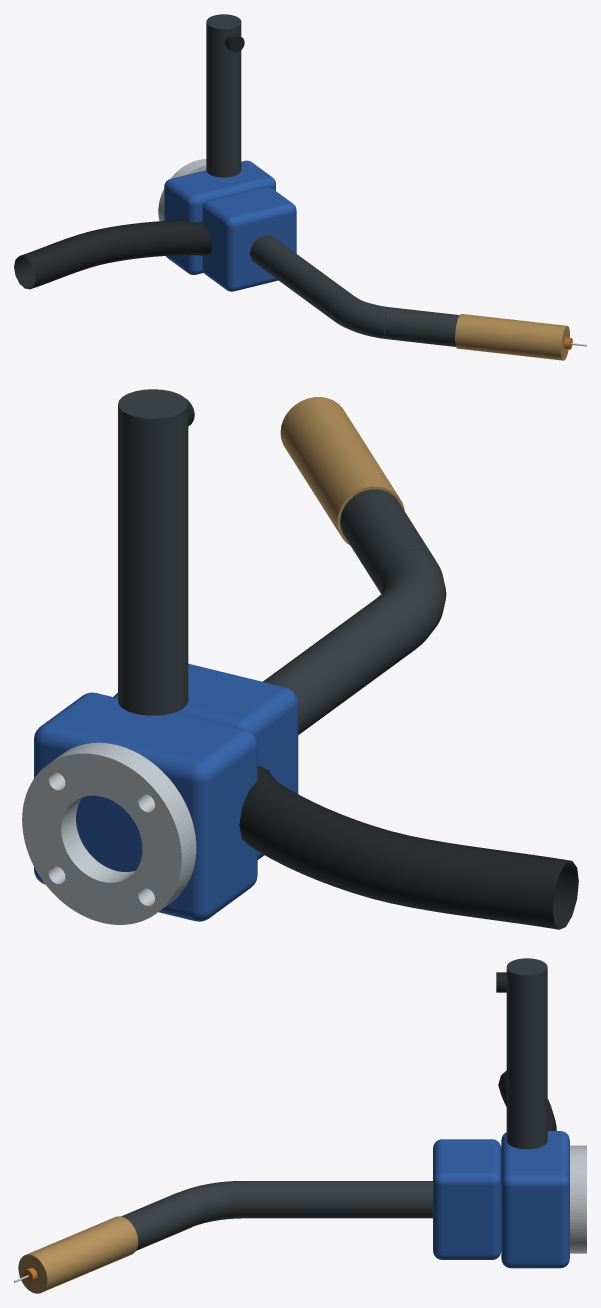
The model's file is mount.obj.
3 renders of one model, top to bottom at view 1: azimuth 30°, elevation 25°; view 2: azimuth 150°, elevation 25°; view 3: azimuth 270°, elevation 25°, orthographic. The views are drawn at different scales.
Visible parts, largest first — view 1: power_cable, torch_clamp, freedrive_handle, nozzle, mount_bracket, torch_body, neck_end, neck_bend, iso50_base_plate; view 2: power_cable, mount_bracket, freedrive_handle, iso50_base_plate, torch_body, nozzle, torch_clamp, neck_end, neck_bend; view 3: mount_bracket, torch_clamp, freedrive_handle, torch_body, nozzle, neck_end, neck_bend, iso50_base_plate.
Boxes of the visible parts, x1,y1,x2,y2 form: power_cable: (14, 220, 250, 289); torch_clamp: (202, 187, 296, 291); freedrive_handle: (206, 14, 241, 177); nozzle: (455, 314, 569, 360); mount_bracket: (164, 160, 275, 274); torch_body: (250, 235, 353, 320); neck_end: (384, 307, 459, 346); neck_bend: (331, 294, 389, 339); iso50_base_plate: (158, 159, 206, 221); power_cable: (239, 765, 578, 929); mount_bracket: (34, 692, 257, 921); freedrive_handle: (118, 389, 188, 715); iso50_base_plate: (22, 742, 196, 924); torch_body: (263, 595, 422, 734); nozzle: (280, 397, 404, 545); torch_clamp: (113, 663, 298, 859); neck_end: (340, 489, 436, 601); neck_bend: (376, 549, 446, 649); mount_bracket: (501, 1131, 569, 1268); torch_clamp: (433, 1139, 501, 1259); freedrive_handle: (506, 958, 547, 1149); torch_body: (244, 1181, 432, 1218); nozzle: (18, 1216, 137, 1293); neck_end: (121, 1192, 197, 1250); neck_bend: (179, 1181, 244, 1225); iso50_base_plate: (570, 1145, 586, 1253).
Bounding box in the file's own units: 0.2758 × 0.1815 × 0.3348.
